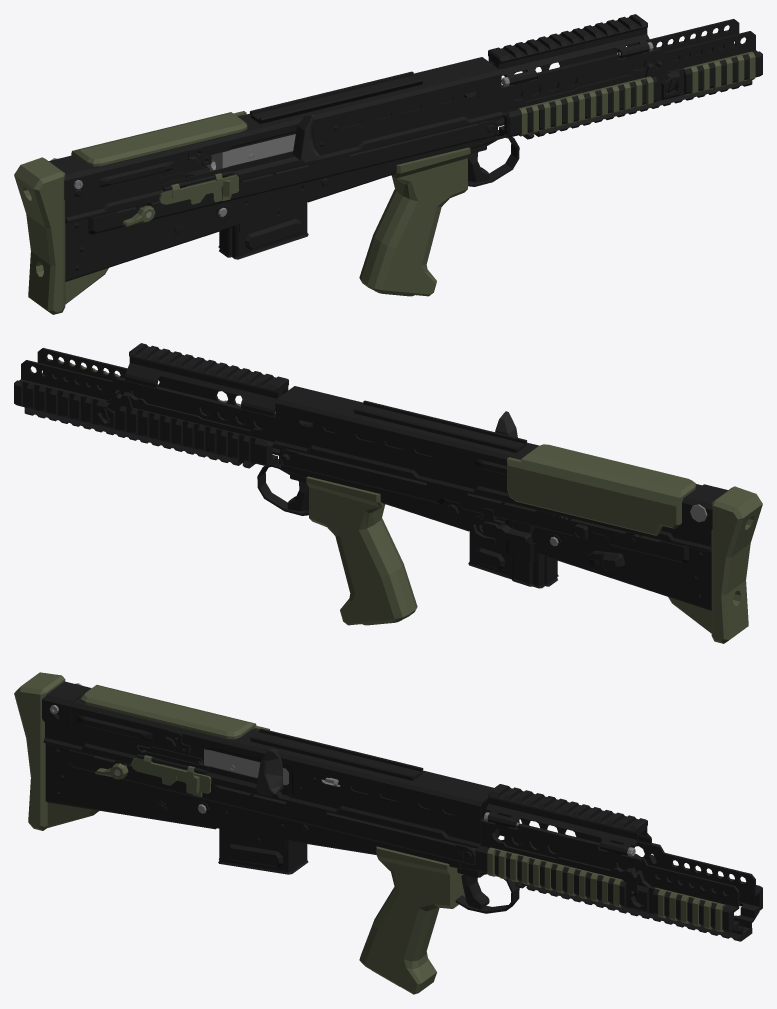
The picture shows the model from 3 angles, top to bottom: view 1: azimuth 30°, elevation 25°; view 2: azimuth 150°, elevation 25°; view 3: azimuth 330°, elevation 25°; orthographic projection.
Parts seen in each view (by area): view 1: l85a2 lower_11 (×2), l85a2 upper_17 (×2), l85a2 handguard_9, l85a2 long rail cover_10, l85a2 bolt_6 (×2), l85a2 dust cover_7, l85a2 short rail cover_15; view 2: l85a2 lower_11 (×2), l85a2 upper_17 (×2), l85a2 handguard_9, l85a2 selector_14, l85a2 mag catch_12; view 3: l85a2 lower_11 (×2), l85a2 upper_17 (×2), l85a2 handguard_9, l85a2 long rail cover_10, l85a2 bolt_6 (×2), l85a2 dust cover_7, l85a2 short rail cover_15, l85a2 trigga_16.
Part boxes in pixels (x1,y1,x2,y2): l85a2 lower_11 (×2): [14, 120, 519, 314]; l85a2 upper_17 (×2): [49, 57, 502, 223]; l85a2 handguard_9: [488, 14, 762, 139]; l85a2 long rail cover_10: [517, 76, 653, 136]; l85a2 bolt_6 (×2): [206, 114, 319, 171]; l85a2 dust cover_7: [159, 173, 239, 204]; l85a2 short rail cover_15: [682, 51, 755, 95]; l85a2 lower_11 (×2): [257, 449, 762, 643]; l85a2 upper_17 (×2): [274, 386, 727, 552]; l85a2 handguard_9: [14, 343, 288, 468]; l85a2 selector_14: [586, 550, 625, 571]; l85a2 mag catch_12: [482, 521, 531, 543]; l85a2 lower_11 (×2): [14, 672, 519, 994]; l85a2 upper_17 (×2): [42, 681, 499, 848]; l85a2 handguard_9: [475, 784, 762, 941]; l85a2 long rail cover_10: [487, 847, 623, 907]; l85a2 bolt_6 (×2): [204, 749, 340, 796]; l85a2 dust cover_7: [131, 755, 211, 797]; l85a2 short rail cover_15: [655, 888, 725, 932]; l85a2 trigga_16: [461, 847, 489, 909].
Size of the model in its own units: 6.32 by 1.87 by 0.5952.
